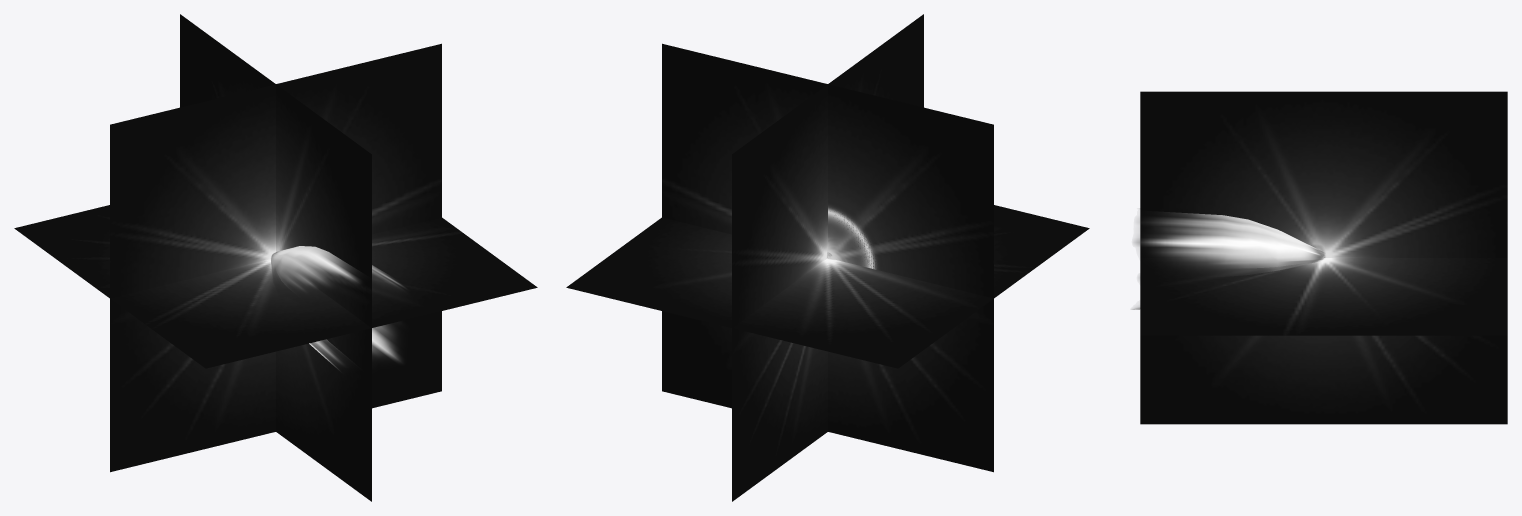
Rendered from si_eos_r200.glb.
3 views of the same model, side by side, from view 1: azimuth 30°, elevation 25°; view 2: azimuth 150°, elevation 25°; view 3: azimuth 270°, elevation 25° (orthographic). The views are drawn at different scales.
Parts seen in each view (by area): view 1: layer_00_si_est_0000, layer_03_si_est_0501, layer_04_si_est_0501, layer_05_si_est_0501; view 2: layer_00_si_est_0000, layer_02_si_est_0402; view 3: layer_00_si_est_0000, layer_03_si_est_0501, layer_04_si_est_0501, layer_05_si_est_0501.
Boxes of the visible parts, x1,y1,x2,y2 form: layer_00_si_est_0000: [14, 14, 537, 501]; layer_03_si_est_0501: [271, 246, 406, 372]; layer_04_si_est_0501: [271, 250, 405, 371]; layer_05_si_est_0501: [276, 266, 317, 295]; layer_00_si_est_0000: [566, 14, 1089, 501]; layer_02_si_est_0402: [828, 203, 879, 269]; layer_00_si_est_0000: [1140, 91, 1507, 424]; layer_03_si_est_0501: [1134, 212, 1322, 309]; layer_04_si_est_0501: [1137, 212, 1322, 309]; layer_05_si_est_0501: [1216, 251, 1323, 267].
Size of the model in its own units: 896 by 896 by 950.
5 materials, 5 textured.
